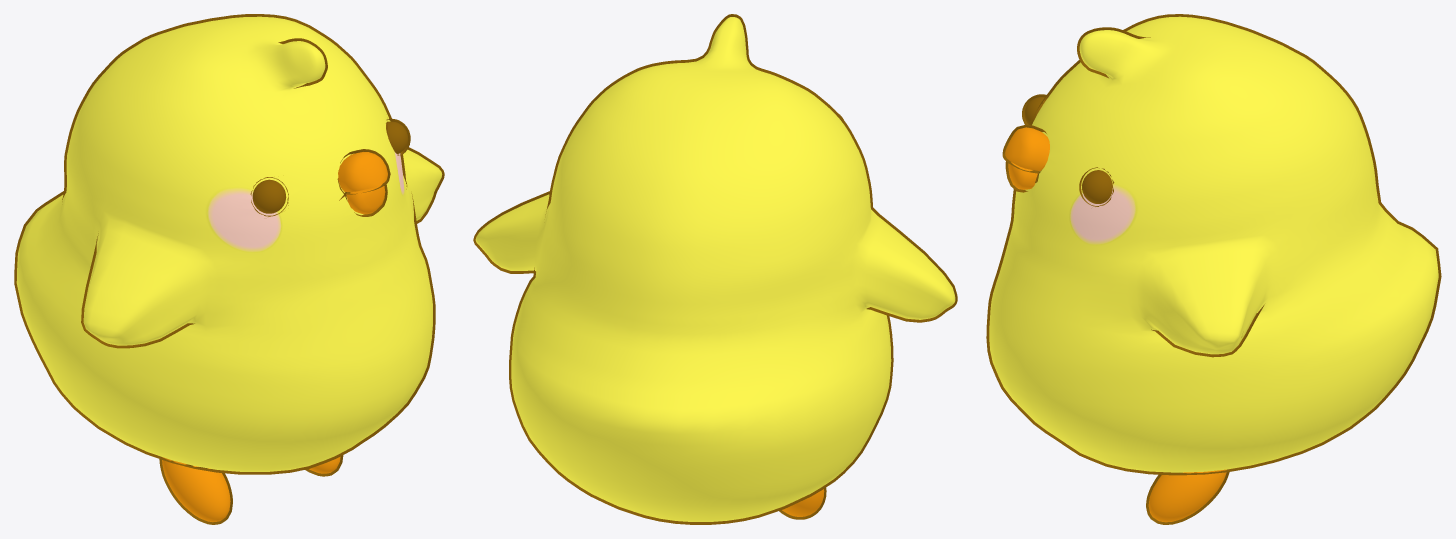
Rendered from piu piu.gltf.
The picture shows the model from 3 angles, left to right: view 1: azimuth 30°, elevation 25°; view 2: azimuth 150°, elevation 25°; view 3: azimuth 270°, elevation 25°; orthographic projection.
Visible parts, largest first — view 1: Cylinder001, Cylinder002; view 2: Cylinder001, Cylinder002; view 3: Cylinder001, Cylinder002.
Part boxes in pixels (x1,y1,x2,y2): Cylinder001: [16, 16, 442, 522]; Cylinder002: [14, 14, 444, 524]; Cylinder001: [475, 17, 955, 521]; Cylinder002: [473, 14, 957, 524]; Cylinder001: [989, 16, 1438, 522]; Cylinder002: [986, 14, 1441, 524].
Bounding box in the file's own units: 0.9815 × 1.06 × 0.9295.
Materials: 4 (4 with a texture image).
